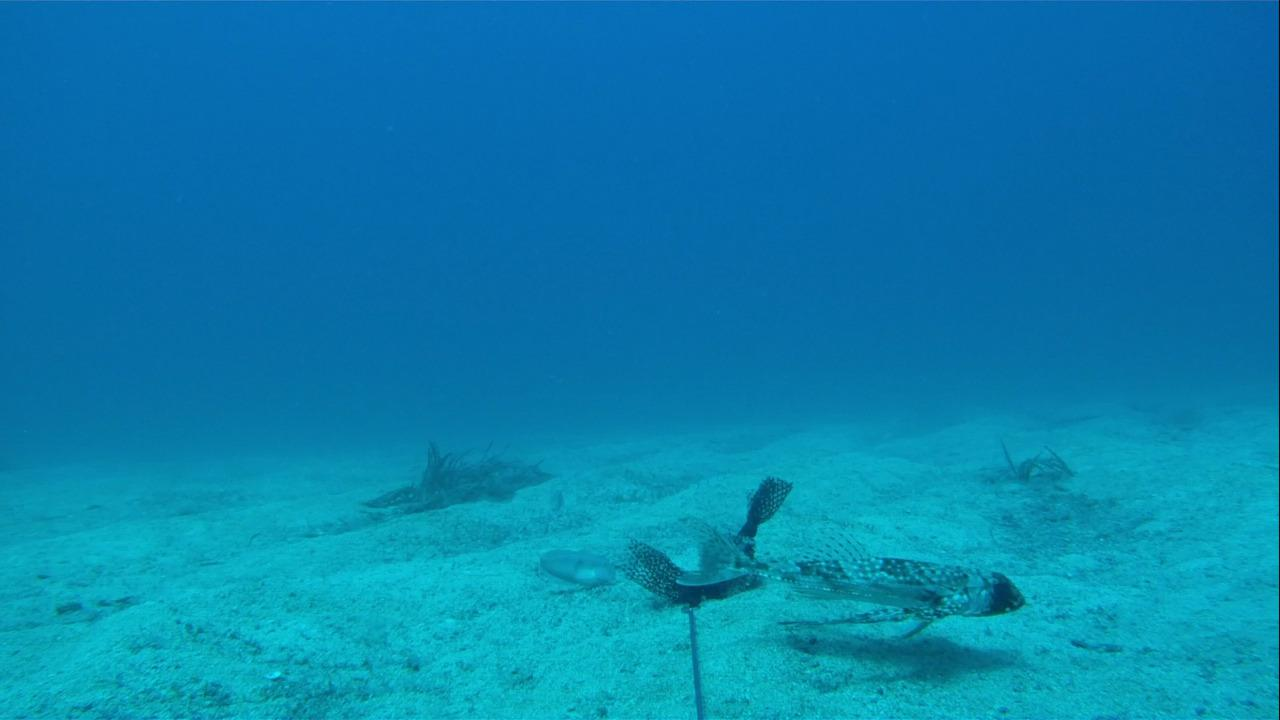dactylopterus: (670, 517, 1026, 643)
raor: (521, 543, 620, 587)
